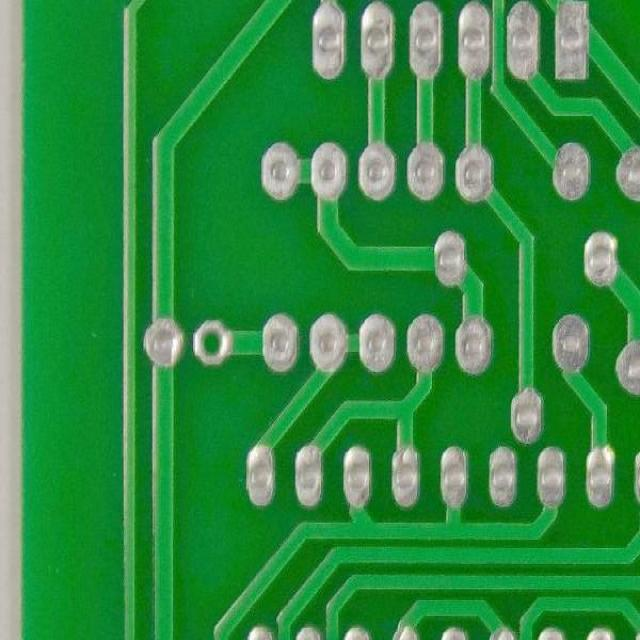missing hole: (188, 315, 237, 369)
